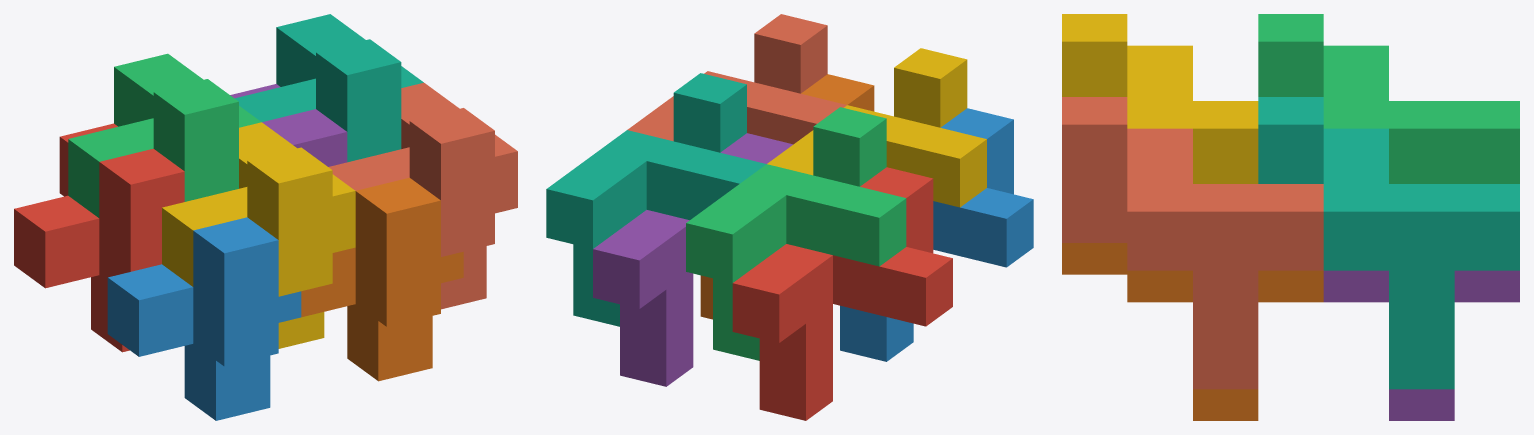
File: tiling.obj
3 views of the same model, side by side, from view 1: azimuth 30°, elevation 25°; view 2: azimuth 150°, elevation 25°; view 3: azimuth 270°, elevation 25° (orthographic). The views are drawn at different scales.
Visible parts, largest first — view 1: copy_1_domain_2, copy_1_domain_6, copy_1_domain_4, copy_1_domain_1, copy_1_domain_8, copy_1_domain_3, copy_1_domain_7, copy_1_domain_5; view 2: copy_1_domain_3, copy_1_domain_1, copy_1_domain_7, copy_1_domain_5, copy_1_domain_4, copy_1_domain_2, copy_1_domain_8, copy_1_domain_6; view 3: copy_1_domain_8, copy_1_domain_7, copy_1_domain_3, copy_1_domain_4, copy_1_domain_6, copy_1_domain_5.
Part boxes in pixels (x1,y1,x2,y2): copy_1_domain_2: (107,217,301,420); copy_1_domain_6: (301,177,463,381); copy_1_domain_4: (162,122,355,348); copy_1_domain_1: (14,123,184,352); copy_1_domain_8: (328,82,517,309); copy_1_domain_3: (68,53,261,217); copy_1_domain_7: (235,14,423,162); copy_1_domain_5: (230,84,347,166); copy_1_domain_3: (686,107,906,360); copy_1_domain_1: (732,167,952,420); copy_1_domain_7: (546,73,766,326); copy_1_domain_5: (593,133,793,386); copy_1_domain_4: (767,48,986,207); copy_1_domain_2: (840,108,1033,361); copy_1_domain_8: (627,14,846,144); copy_1_domain_6: (700,74,874,319); copy_1_domain_8: (1062,97,1323,389); copy_1_domain_7: (1258,97,1519,389); copy_1_domain_3: (1258,14,1519,183); copy_1_domain_4: (1062,14,1258,183); copy_1_domain_6: (1062,243,1323,420); copy_1_domain_5: (1323,270,1519,420).
Bounding box in the file's own units: 7 × 5 × 7.
